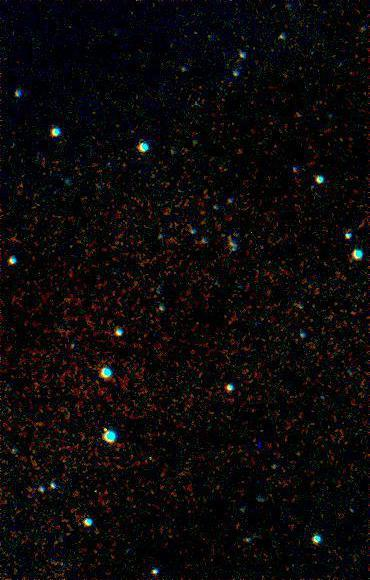star: (95, 413, 125, 443)
